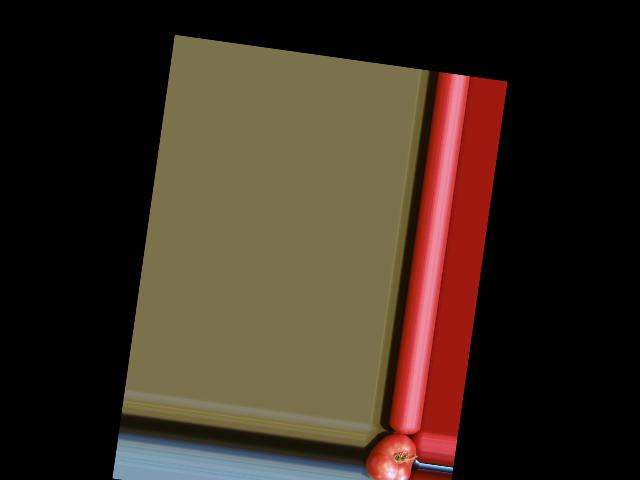tomato: (363, 429, 418, 480)
